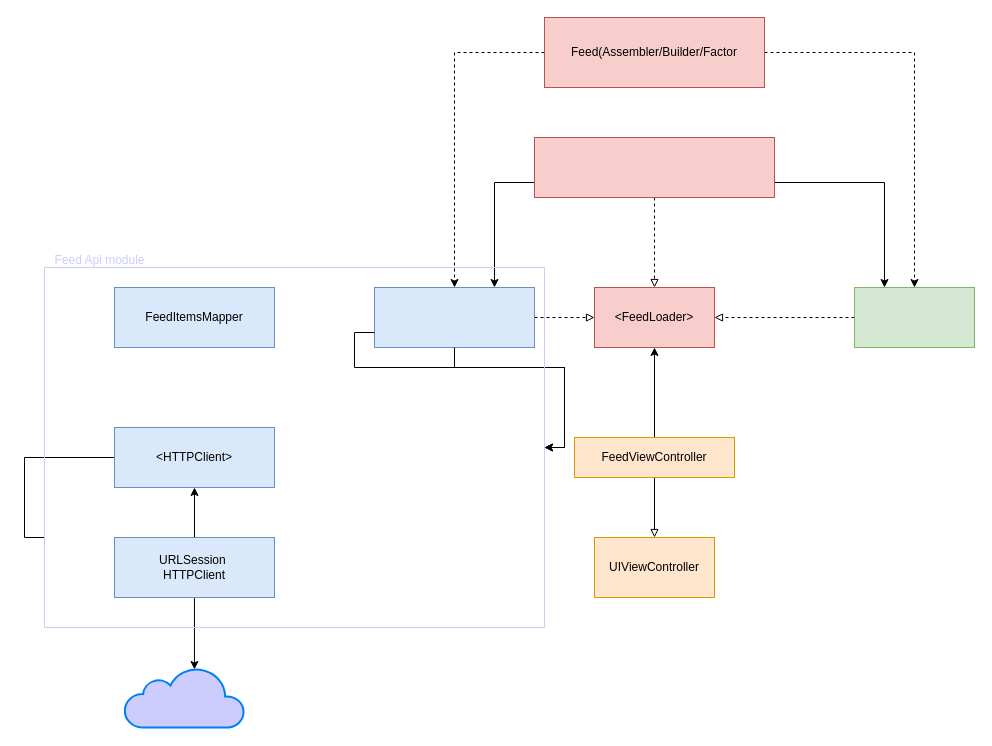
Some shapes in this 992 by 746 pixel diagram are drawn without their labels. Here are the shapes that lost their labels. From the top down, the centre of each, then its label:
At (x=654, y=167): "RemoteWithLocalFallbackFeedService".
At (x=454, y=317): "RemoteFeedLoader".
At (x=914, y=317): "LocalFeedLoader".
